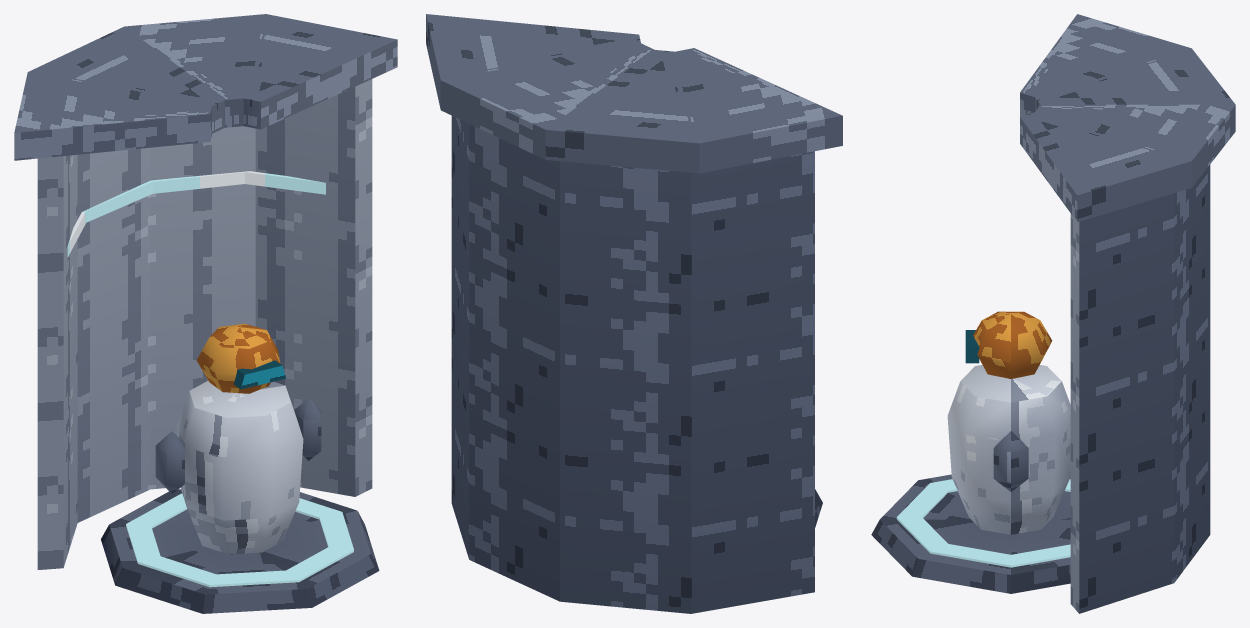
File: tech.charge_pod.glb
3 renders of one model, left to right at view 1: azimuth 30°, elevation 25°; view 2: azimuth 150°, elevation 25°; view 3: azimuth 270°, elevation 25°, orthographic. The views are drawn at different scales.
Visible parts, largest first — view 1: kit_alcove, kit_canopy, kit_bot_body, kit_pad, kit_pad_ring, kit_bot_head, kit_strips, kit_bot_arms, kit_bot_visor; view 2: kit_alcove, kit_canopy; view 3: kit_alcove, kit_canopy, kit_bot_body, kit_pad, kit_bot_head, kit_pad_ring, kit_bot_arms.
Boxes of the visible parts, x1,y1,x2,y2 form: kit_alcove: (37,79,372,569); kit_canopy: (14,14,397,160); kit_bot_body: (176,381,303,554); kit_pad: (101,489,379,613); kit_pad_ring: (126,493,353,587); kit_bot_head: (196,323,280,393); kit_strips: (67,171,325,257); kit_bot_arms: (155,398,321,493); kit_bot_visor: (234,360,286,389); kit_alcove: (451,116,814,613); kit_canopy: (426,14,842,173); kit_alcove: (1070,164,1210,613); kit_canopy: (1020,14,1235,221); kit_bot_body: (947,365,1070,534); kit_pad: (871,474,1070,593); kit_bot_head: (973,311,1052,378); kit_pad_ring: (896,479,1070,567); kit_bot_arms: (993,431,1028,491).
Bounding box in the file's own units: 2.03 × 2.24 × 1.72.
Materials: 8 (8 with a texture image).
